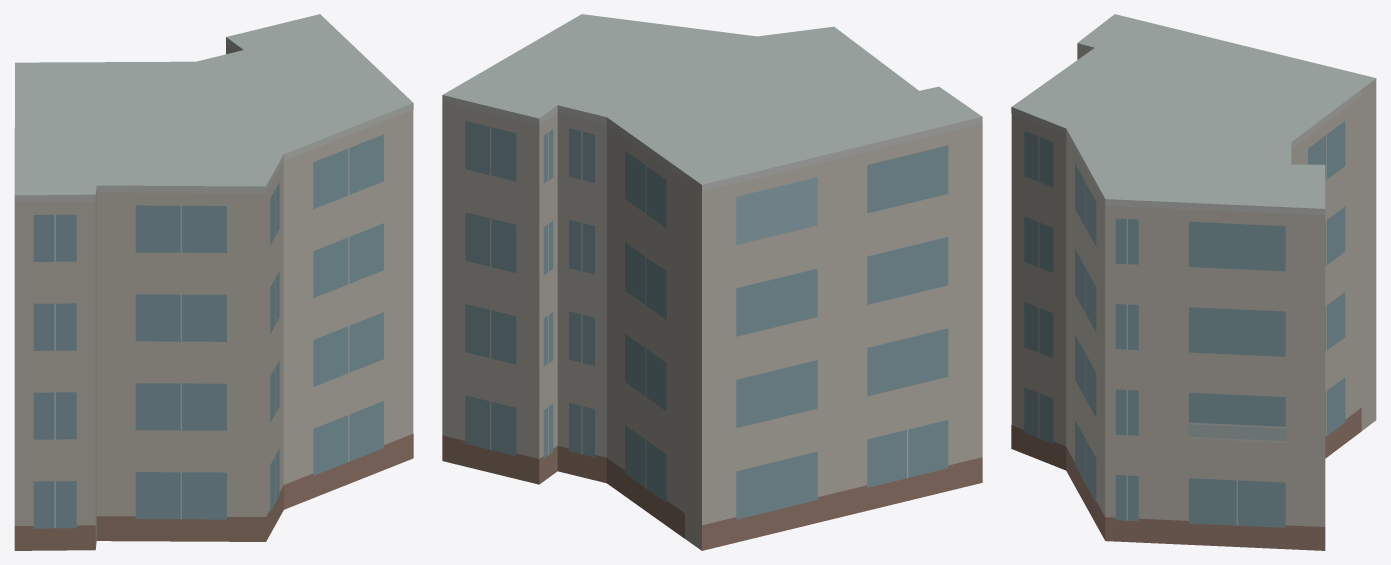
The model's file is survey-upis-33034247.glb.
The picture shows the model from 3 angles, left to right: view 1: azimuth 30°, elevation 25°; view 2: azimuth 150°, elevation 25°; view 3: azimuth 270°, elevation 25°; orthographic projection. The views are drawn at different scales.
Parts seen in each view (by area): view 1: survey-upis-33034247.tmp; view 2: survey-upis-33034247.tmp; view 3: survey-upis-33034247.tmp.
Boxes of the visible parts, x1,y1,x2,y2 form: survey-upis-33034247.tmp: (14,14,413,550); survey-upis-33034247.tmp: (442,14,982,550); survey-upis-33034247.tmp: (1011,14,1376,550).
Bounding box in the file's own units: 15.65 × 12.8 × 12.39.
